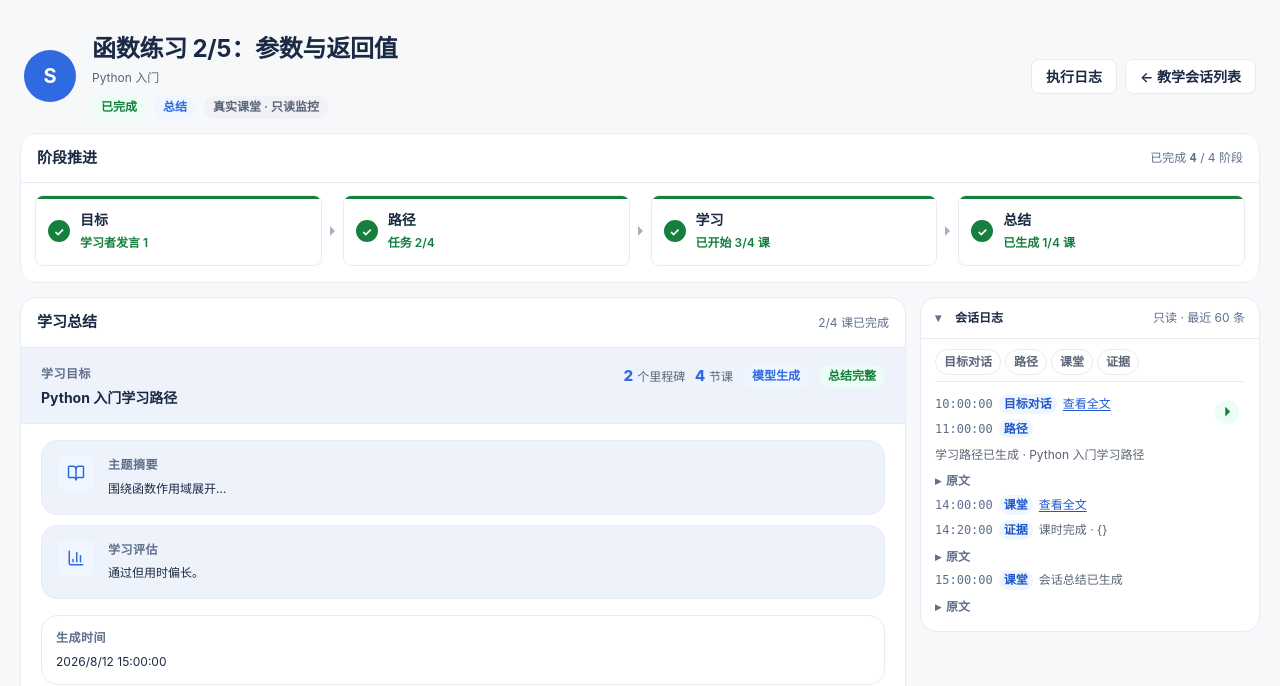
it: SessionCockpit 双模式 › Learn 课表：真实会话下「从该课开始学习」是虚拟专属 → 只读行，不给假入口
Click the tab with class "cp-stp" showing "✓ 学习 已开始 3/4 课" at (733, 243), box [650,195,937,266]
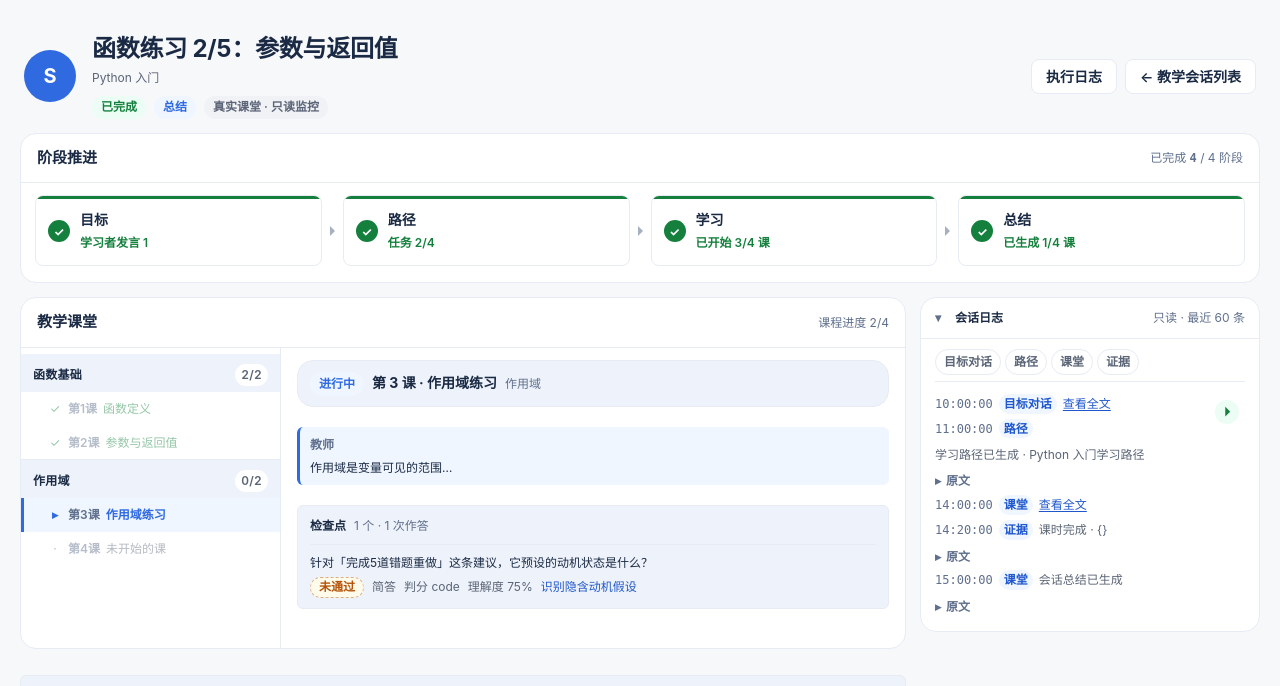
Result: the button with class "cp-learn-tree__lesson" showing "✓ 第1课 函数定义" is shown at [21,392,280,426]
